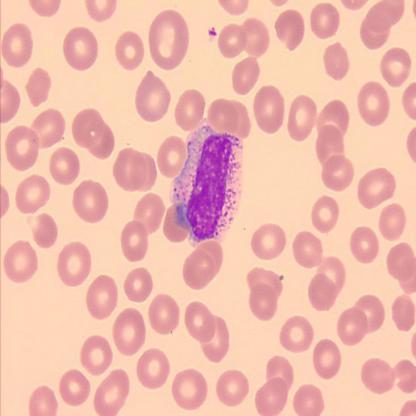Myelocyte: (174, 124, 245, 244)
